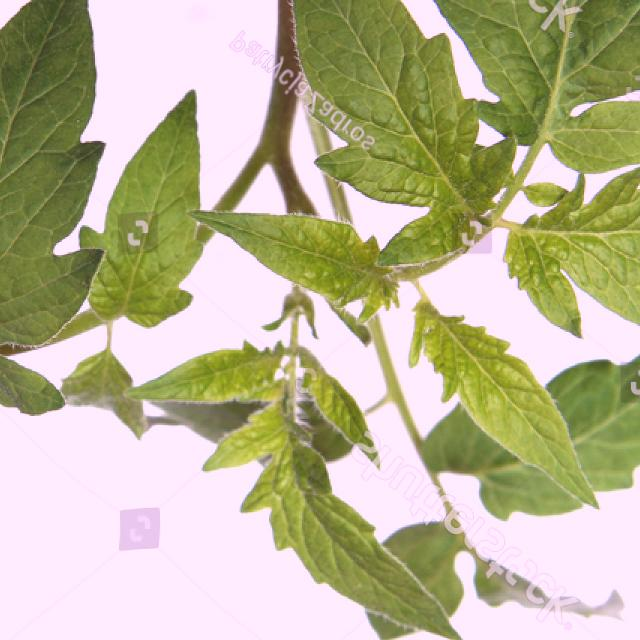Tomato leaf: (204, 300, 443, 640), (375, 232, 616, 539), (0, 0, 148, 407), (279, 0, 488, 232), (491, 75, 640, 353), (464, 0, 640, 195)
